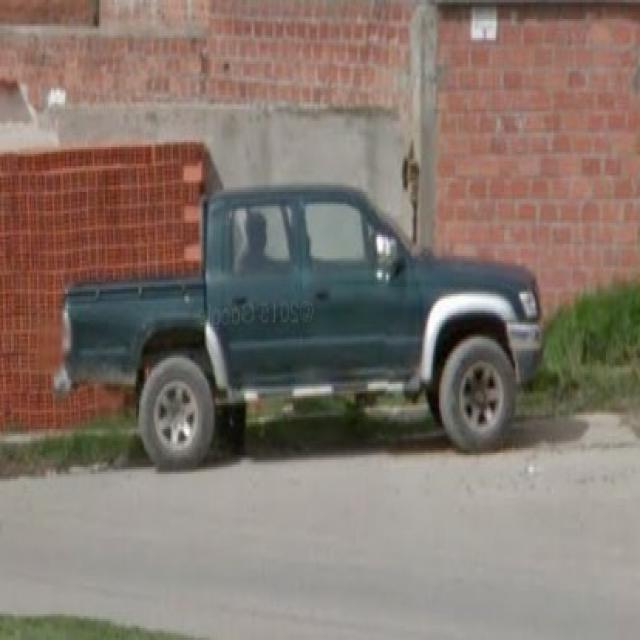car: (53, 183, 545, 470)
